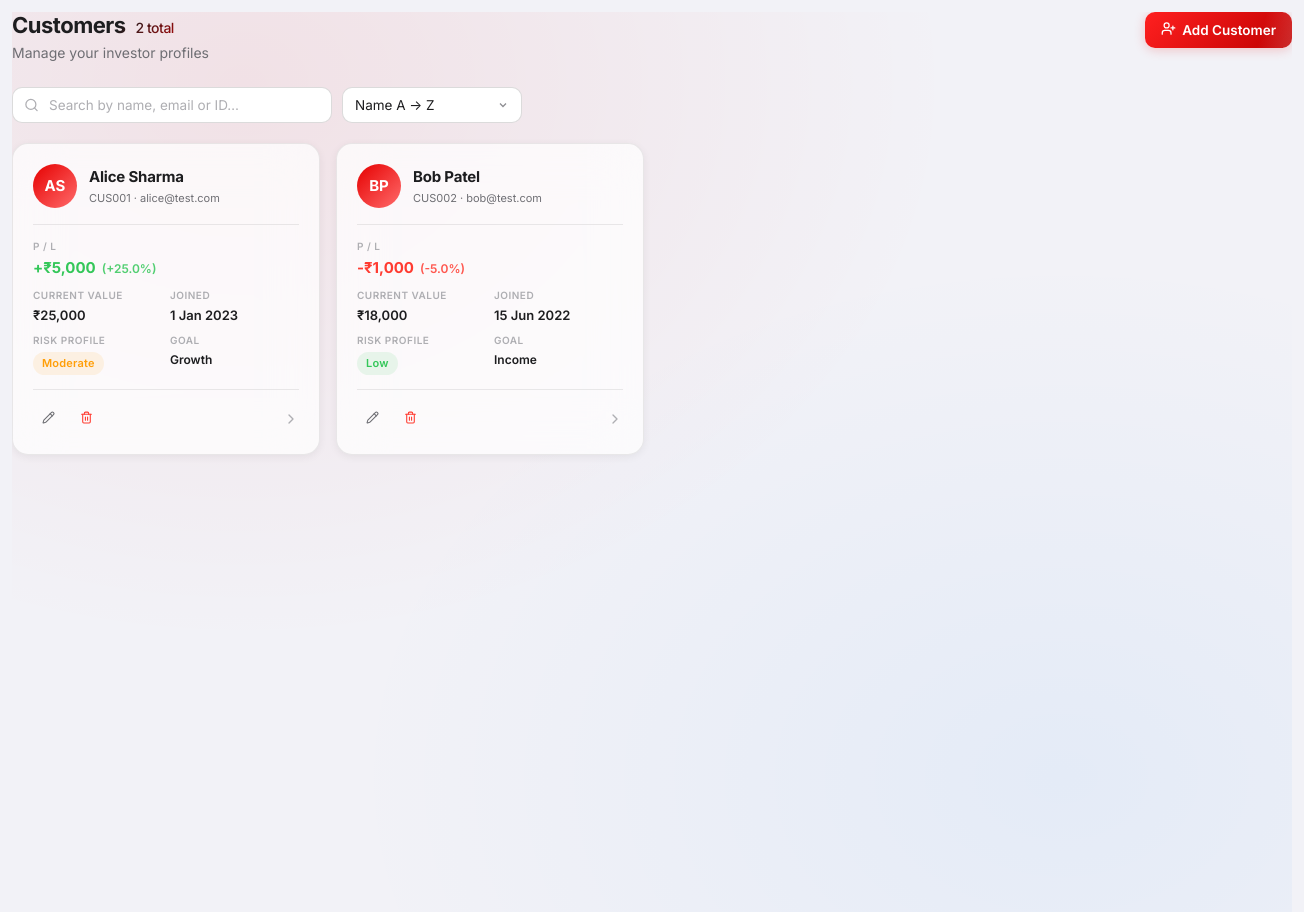
Test: CustomersPage — search › filters customers by name
Expected: the text "Alice Sharma" is shown, [89,167,184,186]
Type "Alice" into the search field with placeholder "Search by name, email or ID…".
click(172, 105); type("Alice")  # box [12,87,332,123]
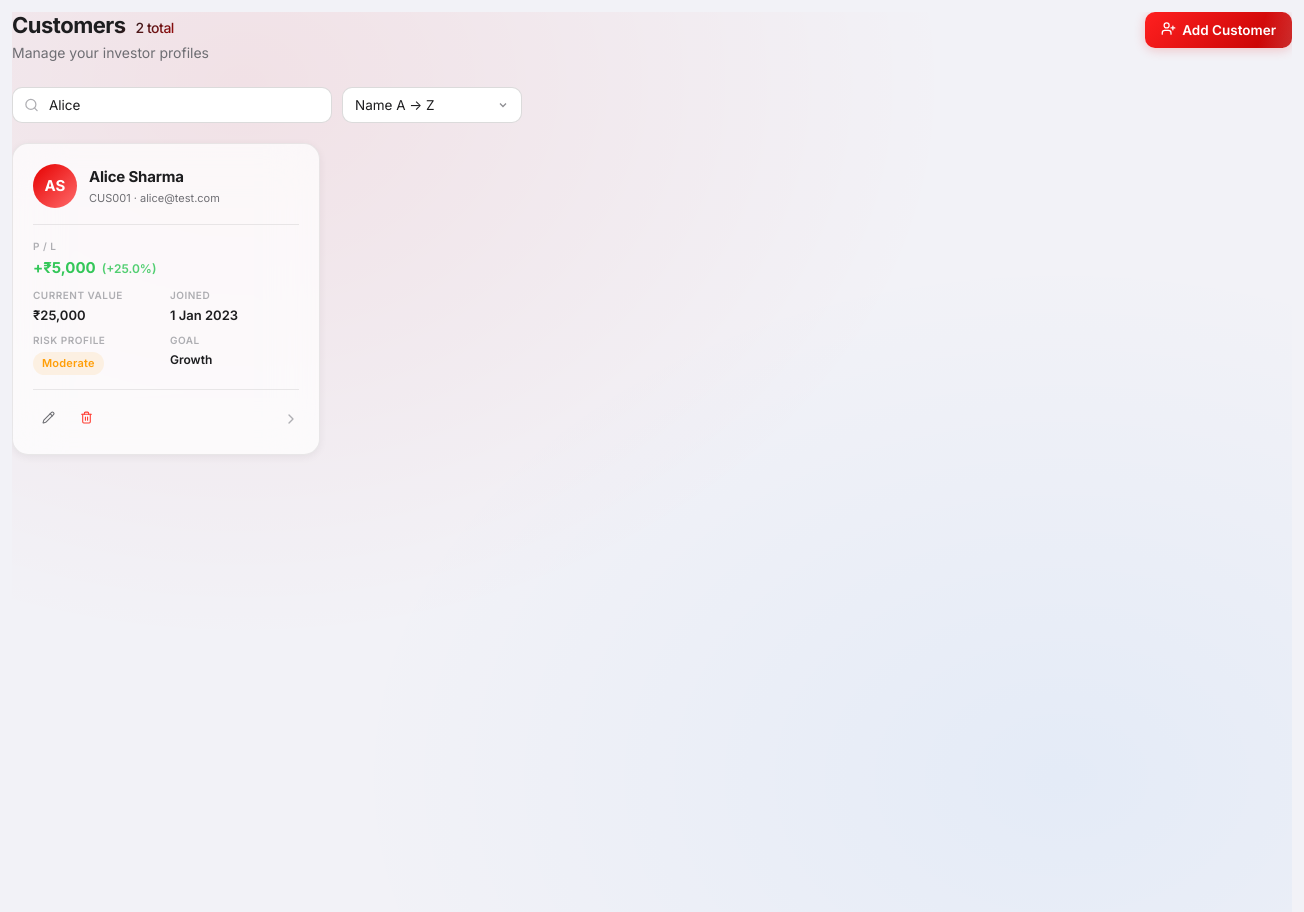
Expected: the text "Alice Sharma" is shown, [89,167,184,186]
Expected: the text "Bob Patel" is gone
